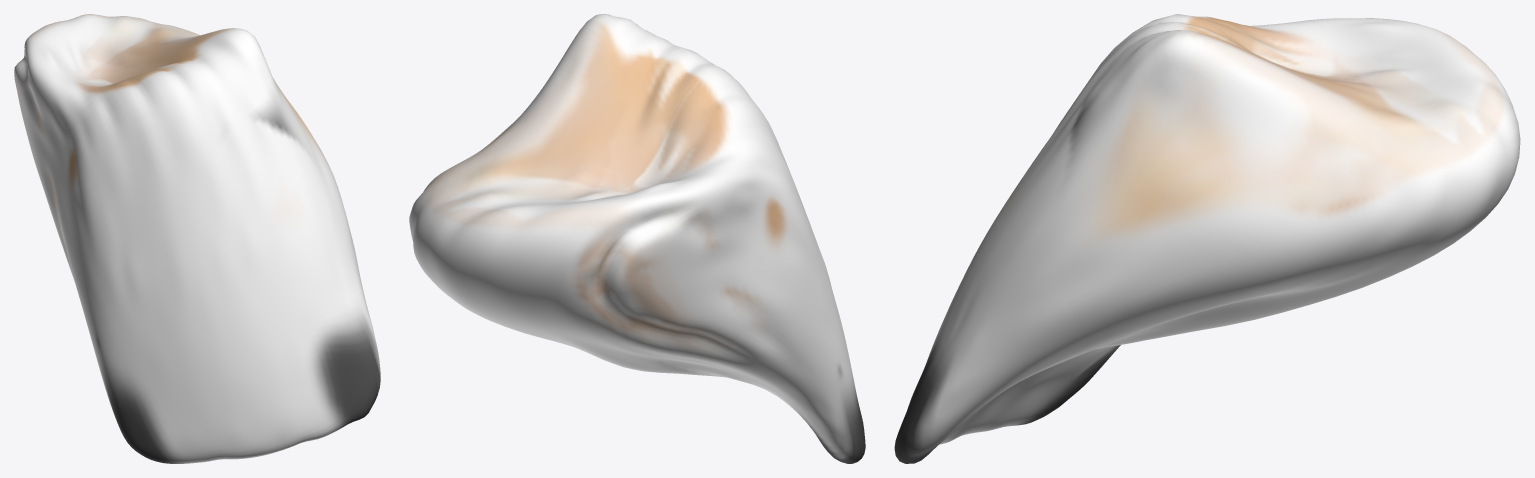
File: 12_class_6.glb
3 renders of one model, left to right at view 1: azimuth 30°, elevation 25°; view 2: azimuth 150°, elevation 25°; view 3: azimuth 270°, elevation 25°, orthographic. The views are drawn at different scales.
Parts seen in each view (by area): view 1: 12; view 2: 12; view 3: 12.
Part boxes in pixels (x1,y1,x2,y2): 12: [14, 14, 380, 463]; 12: [409, 14, 865, 463]; 12: [894, 14, 1520, 463].
Bounding box in the file's own units: 0.2153 × 0.3059 × 0.3675.
1 material, 1 textured.
